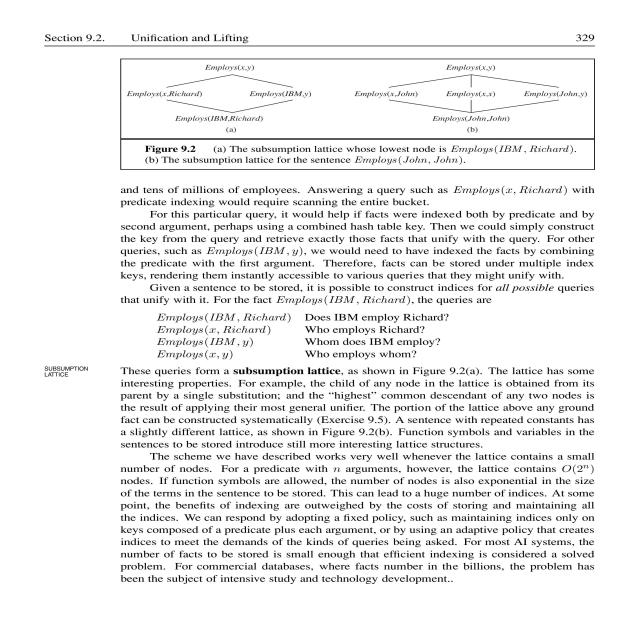diagram: (120, 57, 593, 167)
